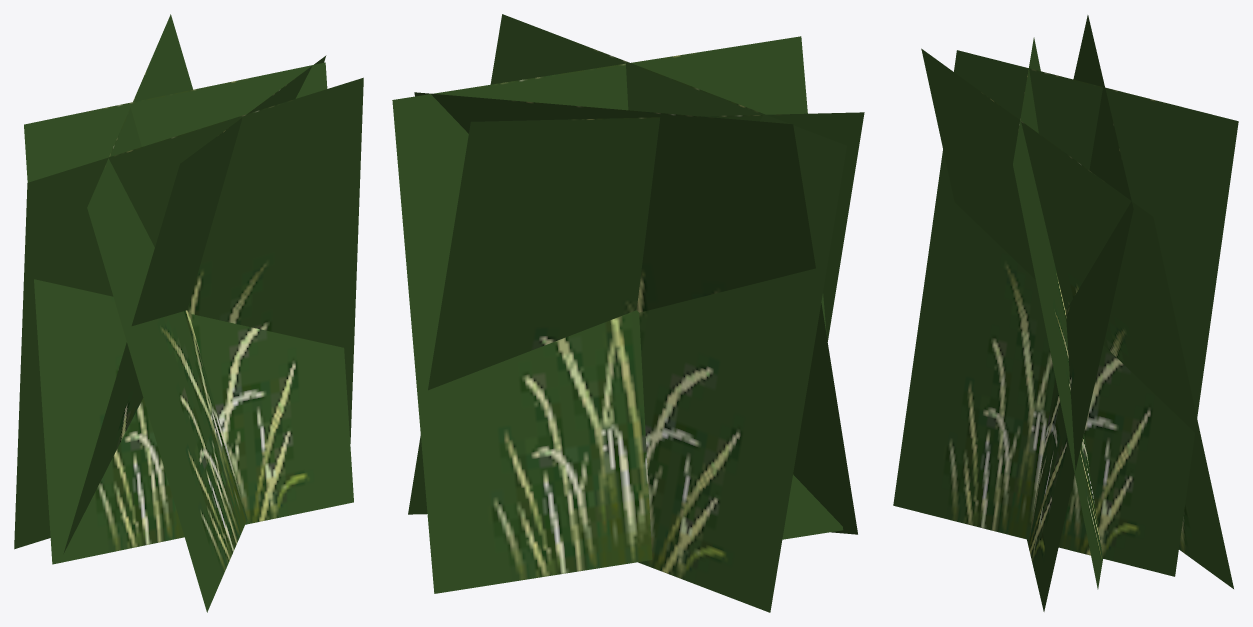
The model's file is grass-tuft-2.glb.
The picture shows the model from 3 angles, left to right: view 1: azimuth 30°, elevation 25°; view 2: azimuth 150°, elevation 25°; view 3: azimuth 270°, elevation 25°; orthographic projection. The views are drawn at different scales.
Visible parts, largest first — view 1: grass-tuft-2; view 2: grass-tuft-2; view 3: grass-tuft-2.
Part boxes in pixels (x1=…): grass-tuft-2: x1=14, y1=14, x2=363, y2=612; grass-tuft-2: x1=392, y1=14, x2=864, y2=612; grass-tuft-2: x1=893, y1=15, x2=1238, y2=611.
Size of the model in its own units: 0.5422 by 0.6411 by 0.4454.
1 material, 1 textured.
